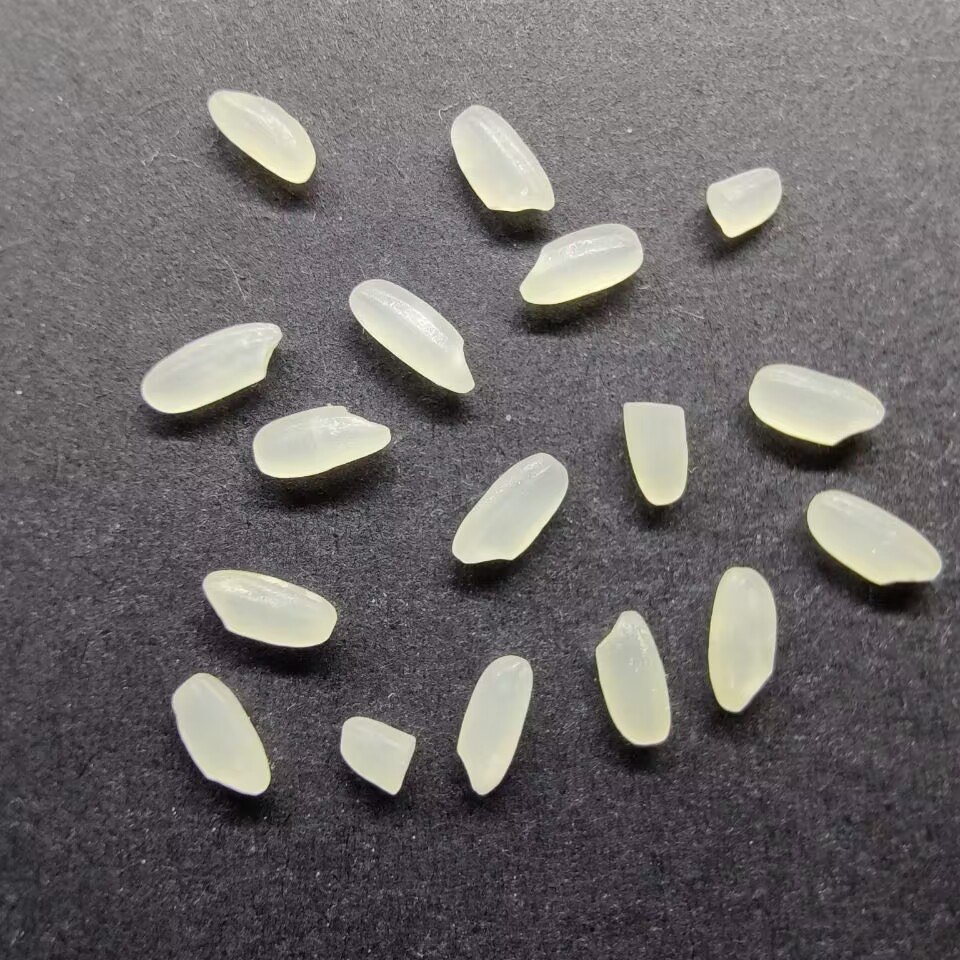broken: (621, 400, 690, 507), (339, 715, 419, 797), (701, 164, 784, 239)
rice: (347, 277, 475, 395), (448, 450, 571, 565), (804, 487, 943, 587), (138, 322, 284, 414), (170, 671, 273, 796), (745, 362, 887, 448), (448, 103, 557, 214), (454, 653, 534, 797), (592, 607, 671, 746), (200, 568, 337, 648), (517, 222, 645, 306), (206, 89, 317, 185), (250, 405, 392, 480), (707, 566, 778, 712)
